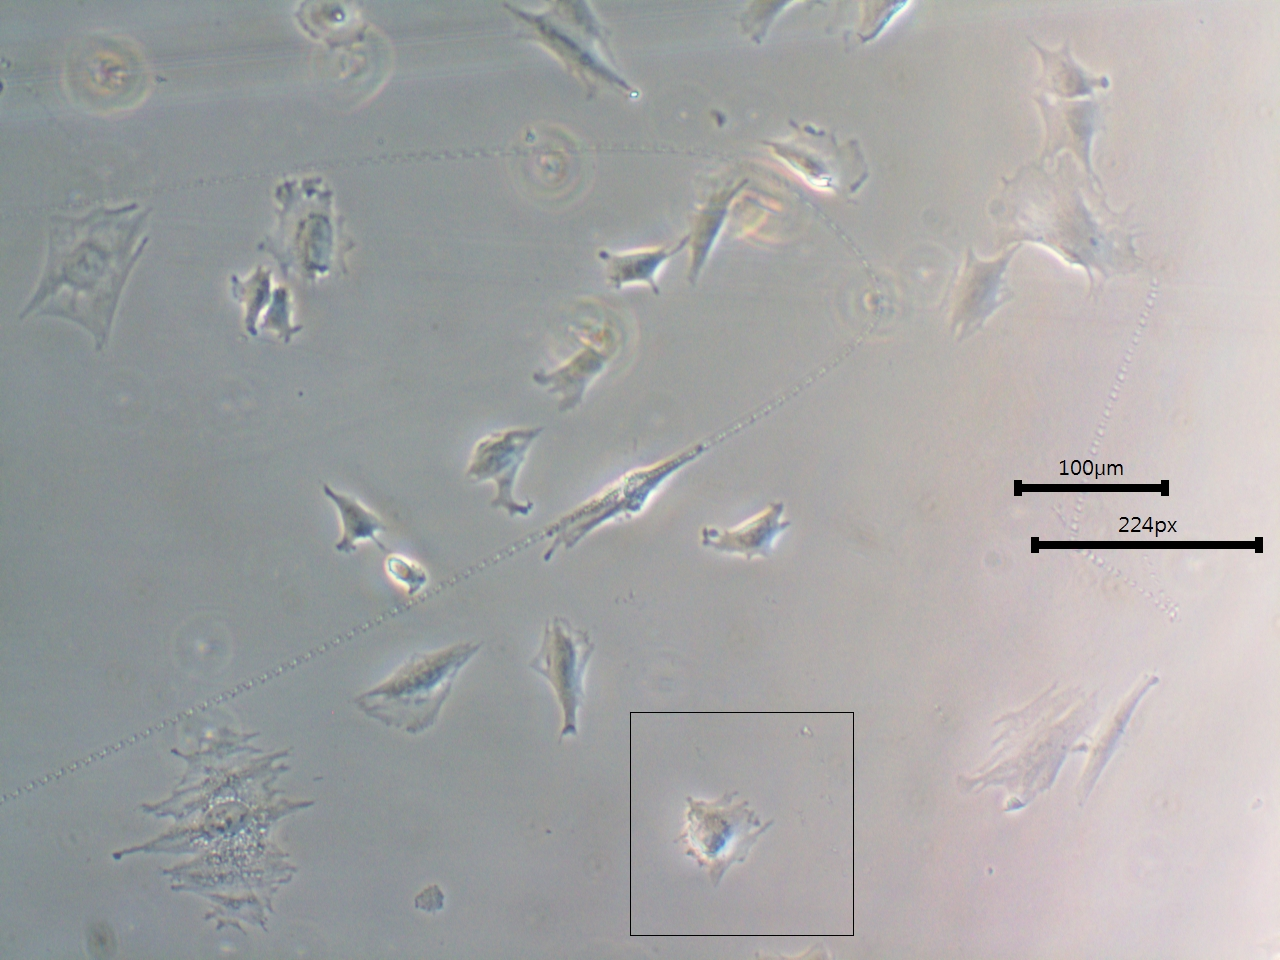large-spread: (103, 725, 314, 940)
medium-polygonal: (344, 632, 495, 742), (531, 612, 603, 746), (677, 165, 753, 289)
medium-spread: (24, 197, 156, 360), (258, 166, 365, 295)
small-polygonal: (461, 424, 535, 530), (701, 496, 799, 568), (310, 480, 393, 562), (592, 234, 689, 298)
small-spread: (934, 239, 1031, 363), (669, 789, 781, 890)
